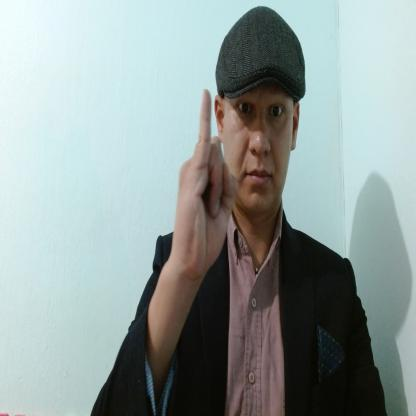I: (172, 86, 241, 271)
